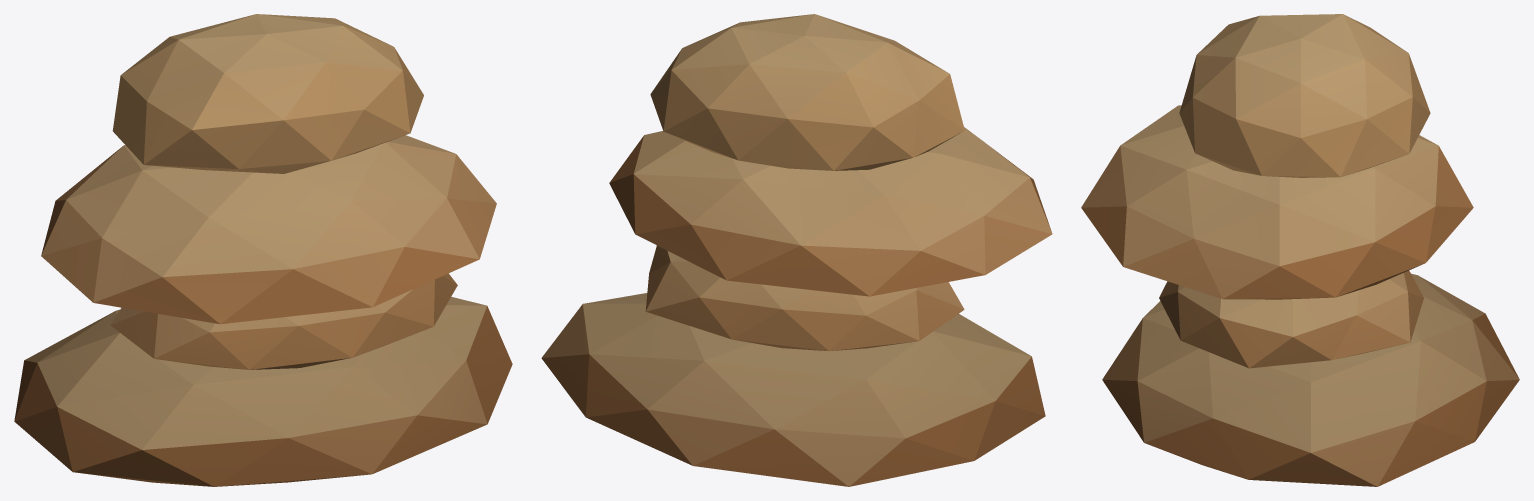
Rendered from desert_rock_c.glb.
3 renders of one model, left to right at view 1: azimuth 30°, elevation 25°; view 2: azimuth 150°, elevation 25°; view 3: azimuth 270°, elevation 25°, orthographic. The views are drawn at different scales.
Parts seen in each view (by area): view 1: desert_rock_c; view 2: desert_rock_c; view 3: desert_rock_c.
Part boxes in pixels (<box>): desert_rock_c: <box>14,14,512,486</box>; desert_rock_c: <box>541,14,1052,486</box>; desert_rock_c: <box>1081,14,1519,486</box>.
Bounding box in the file's own units: 1.86 × 1.44 × 1.64.
